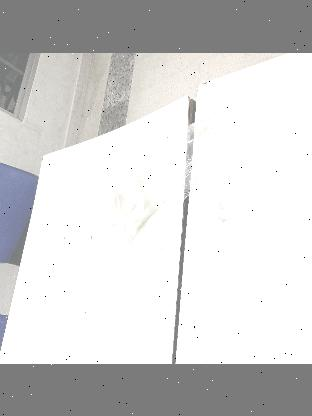Others: (157, 108, 235, 235), (91, 156, 159, 262), (48, 181, 92, 241)
